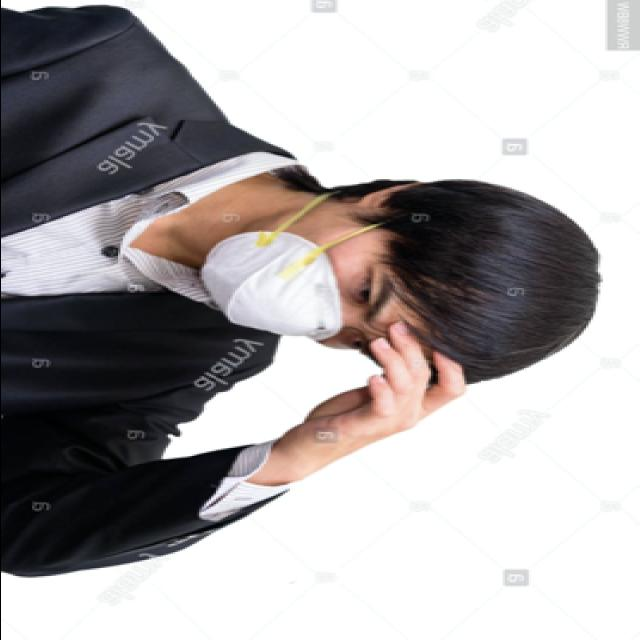with_mask: (201, 210, 401, 348)
